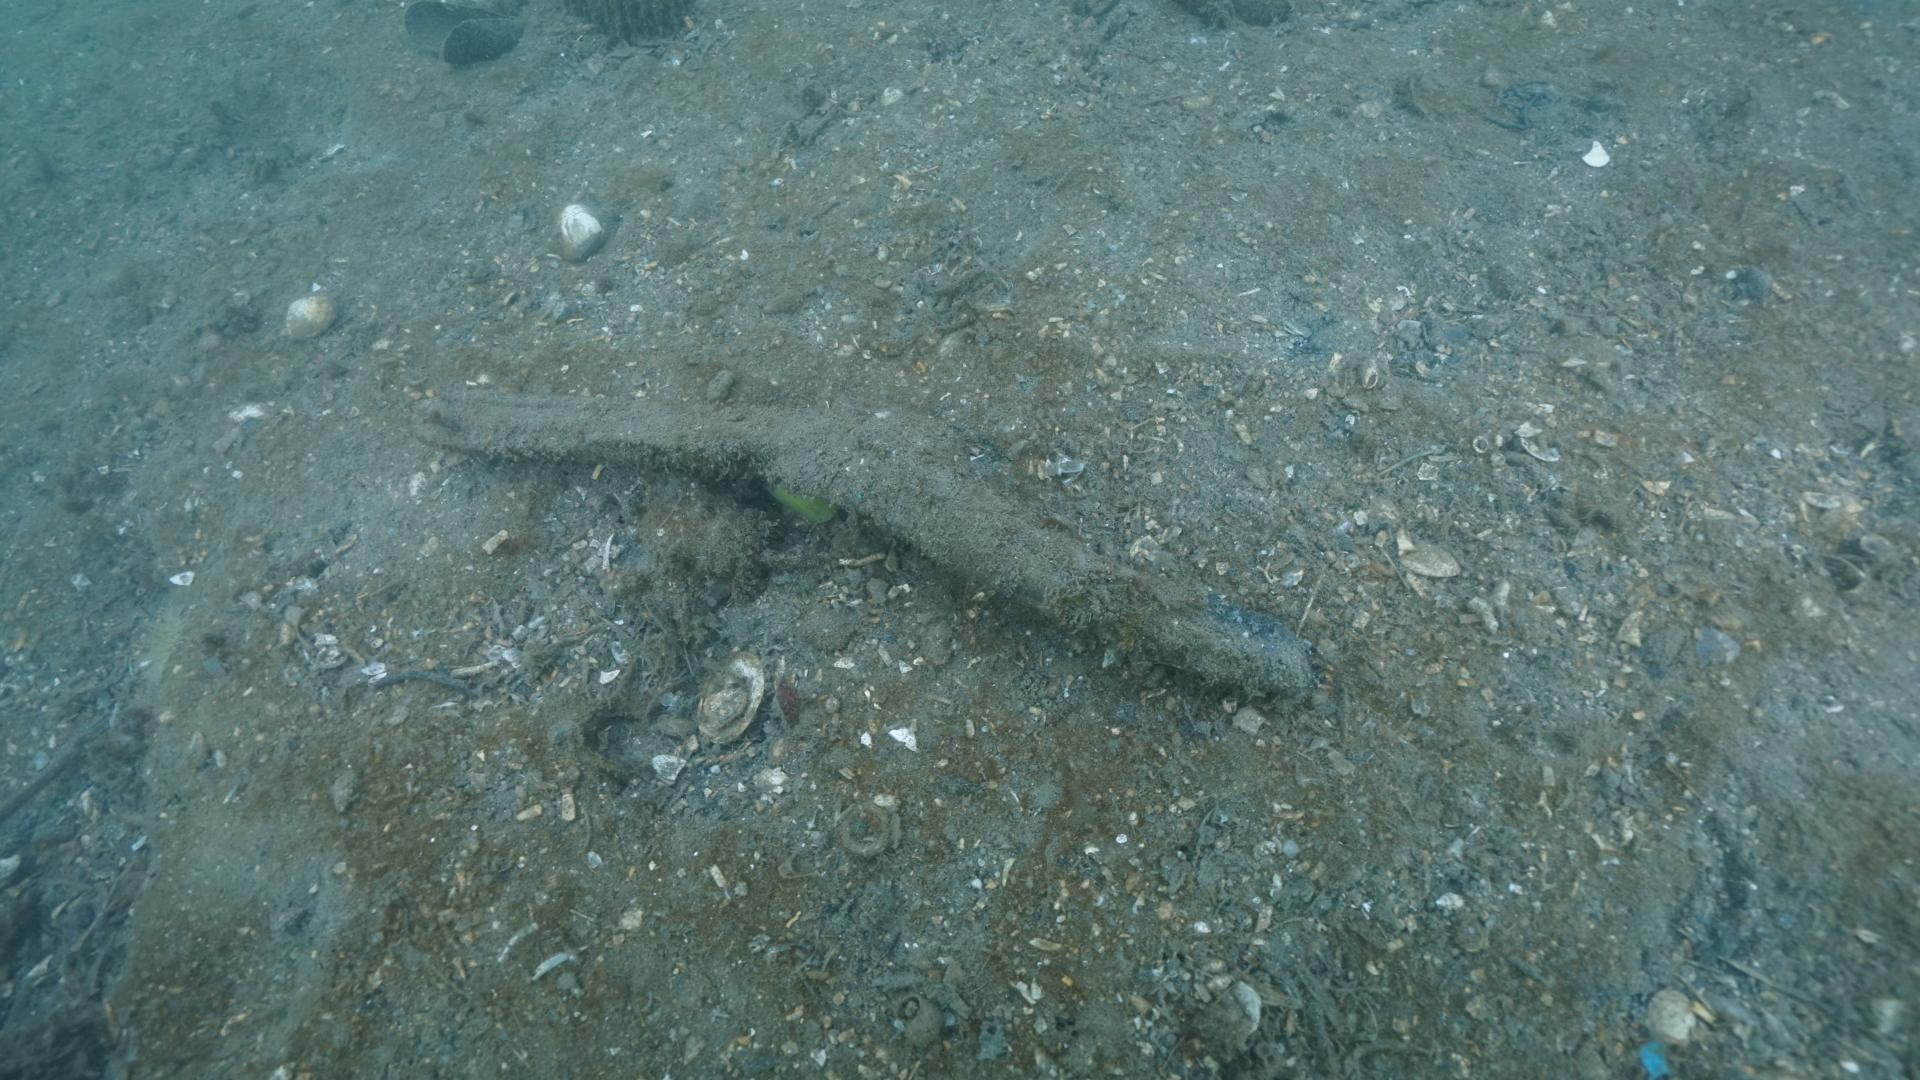wood: (417, 392, 1309, 709)
